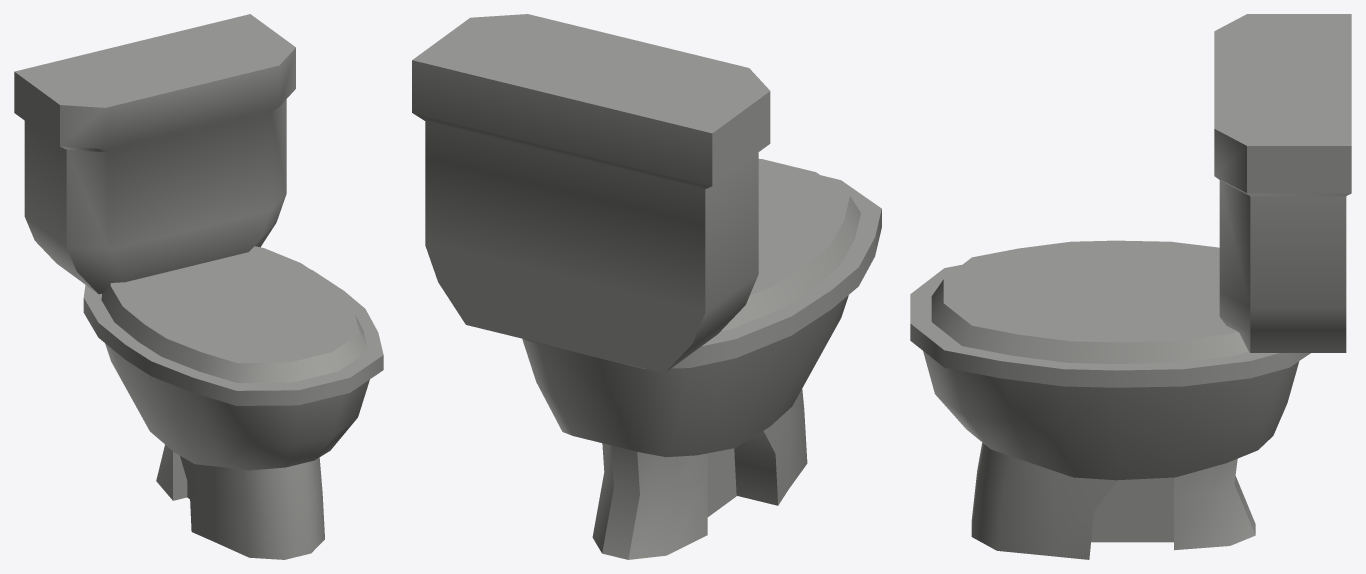
The model's file is Bathroom_Toilet.glb.
3 renders of one model, left to right at view 1: azimuth 30°, elevation 25°; view 2: azimuth 150°, elevation 25°; view 3: azimuth 270°, elevation 25°, orthographic. The views are drawn at different scales.
Visible parts, largest first — view 1: Bathroom_Toilet; view 2: Bathroom_Toilet; view 3: Bathroom_Toilet.
Boxes of the visible parts, x1,y1,x2,y2 form: Bathroom_Toilet: [14, 14, 383, 559]; Bathroom_Toilet: [412, 14, 881, 559]; Bathroom_Toilet: [910, 14, 1351, 559].
Bounding box in the file's own units: 0.5852 × 0.9294 × 0.8271.
Materials: 1 (1 with a texture image).
